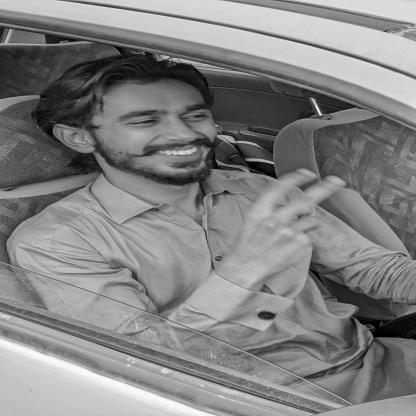no-seatbelt: (35, 45, 290, 299)
